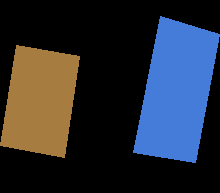parkingspot: (133, 16, 219, 162), (0, 45, 79, 157)
